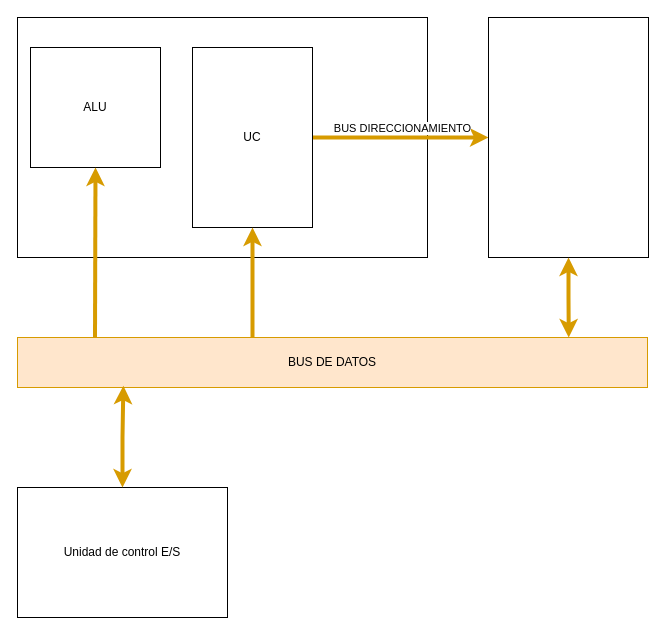
The diagram is 666 pixels wide and 635 high, and some of its shapes have lost their labels. The shapes that lost their labels are listed below. From the top down, each one's box as (x1, y1, x2, y2) in pixels, then its label:
(16, 16, 428, 258): CPU
(488, 16, 648, 258): Memoria
